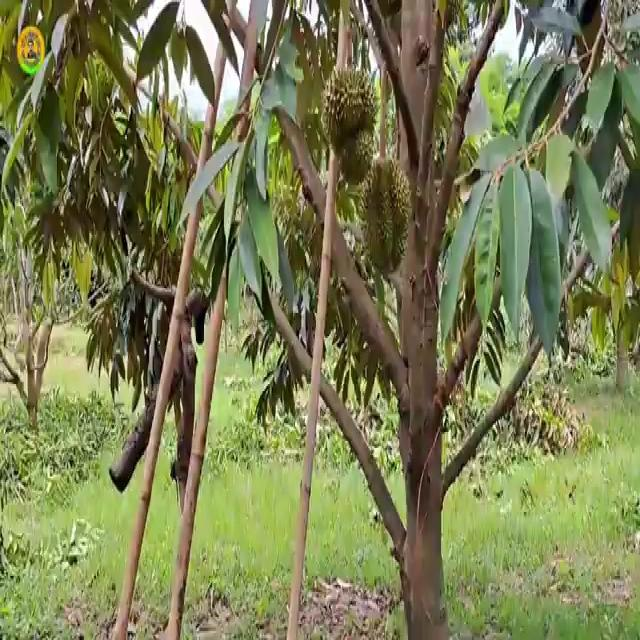durian: (321, 59, 381, 192), (357, 153, 413, 278)
